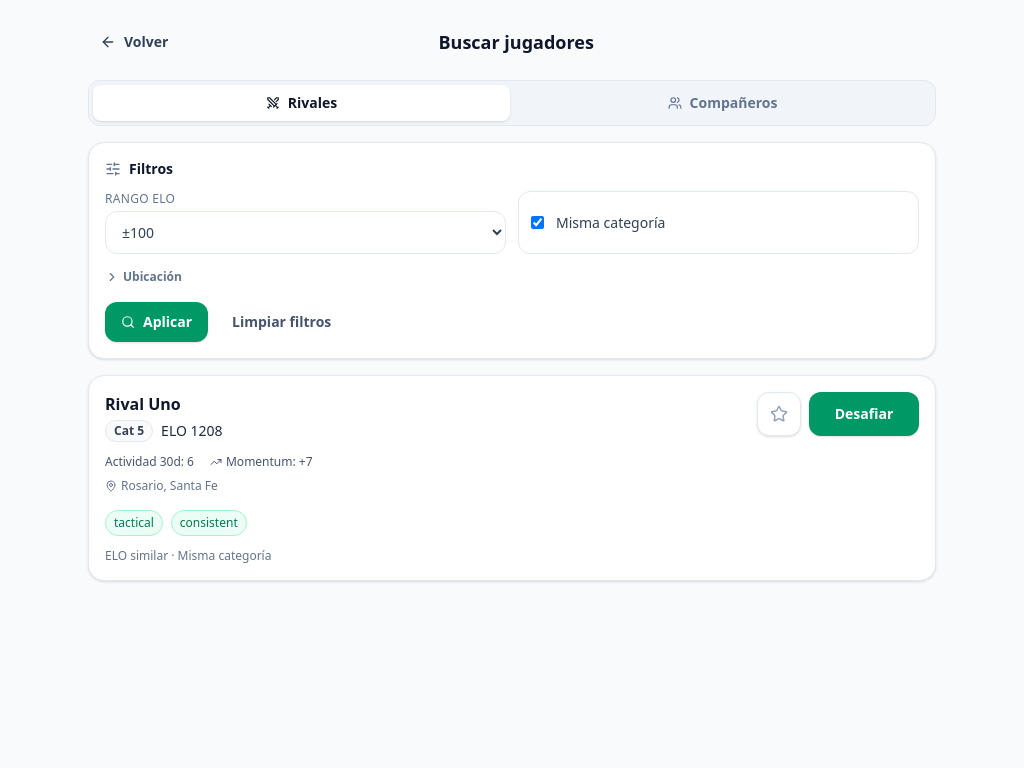
Test case: RivalFinderPage › collapsible location section › clicking Ubicación toggle reveals location fields
Click the button "Ubicación". click: (143,277)
box: top-left (105, 269), bottom-right (182, 285)
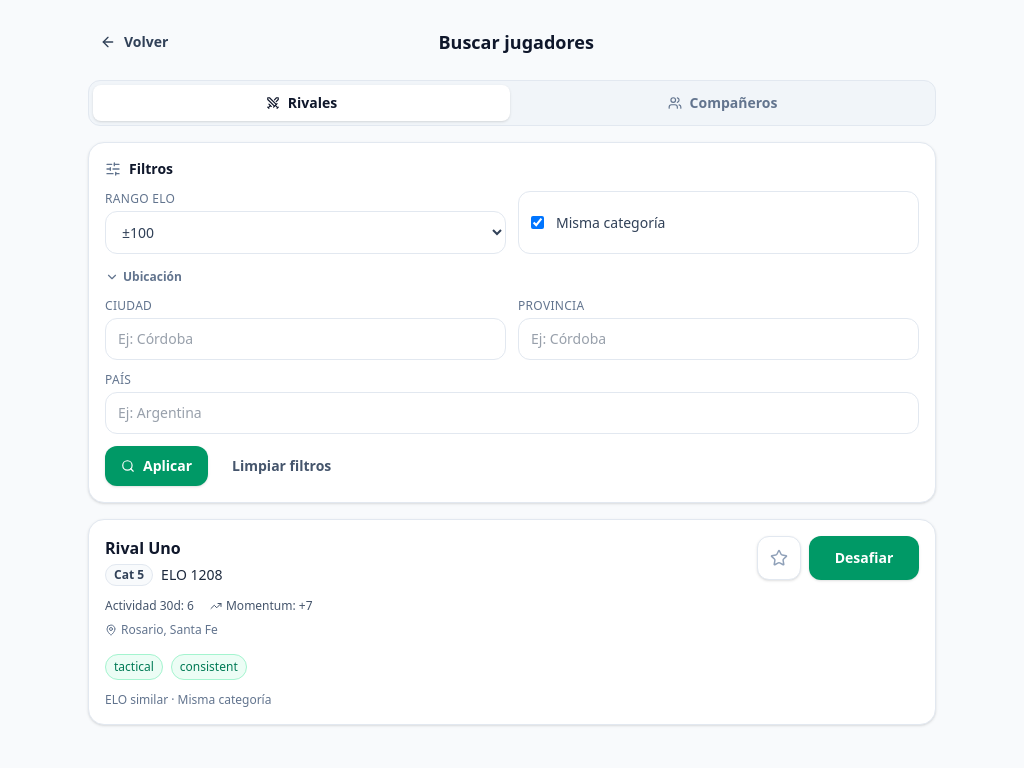
Check: the field with placeholder "Ej: Córdoba" is shown, box top-left (105, 318), bottom-right (506, 360)
